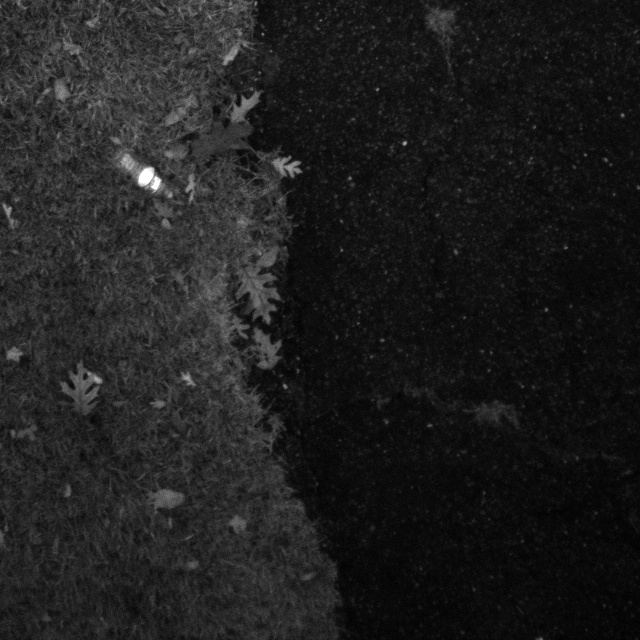bottle: (103, 148, 181, 205)
